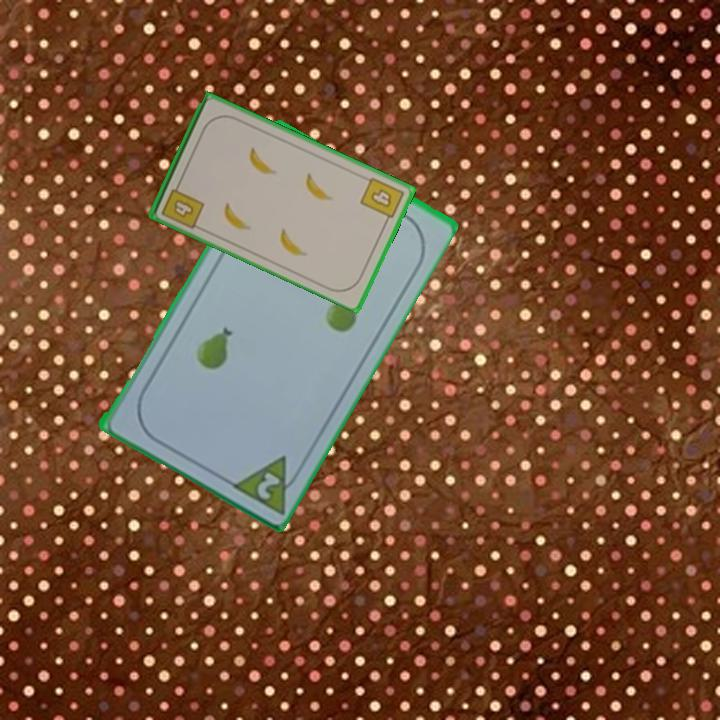2p: (253, 467, 283, 502)
4b: (357, 173, 407, 227), (158, 178, 207, 232)
